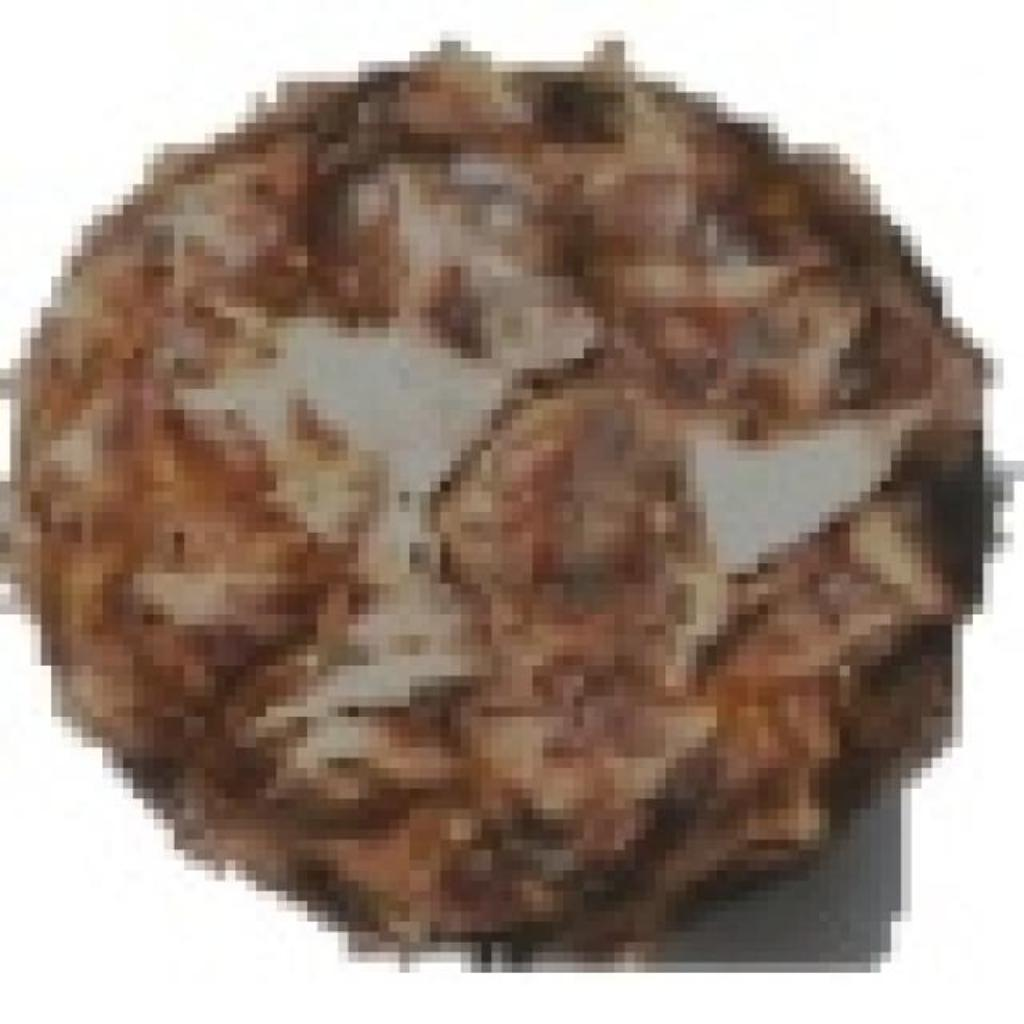pineapple: (10, 31, 973, 942)
